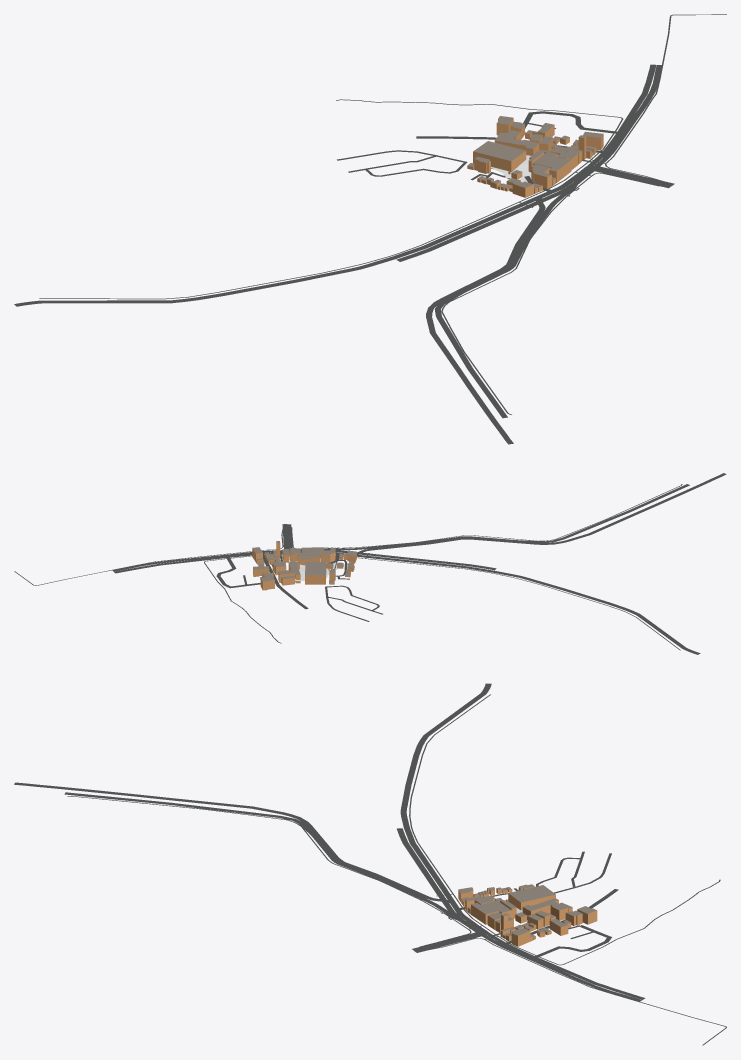
The model's file is sunndaimapkiso.fbx.
3 renders of one model, top to bottom at view 1: azimuth 30°, elevation 25°; view 2: azimuth 150°, elevation 25°; view 3: azimuth 270°, elevation 25°, orthographic. The views are drawn at different scales.
Visible parts, largest first — view 1: map_3.osm_roads_secondary, map_3.osm_roads_primary, map_3.osm_paths_footway, map_3.osm_buildings.057, map_3.osm_roads_service; view 2: map_3.osm_roads_secondary, map_3.osm_roads_primary, map_3.osm_paths_footway, map_3.osm_buildings.057, map_3.osm_roads_service, map_3.osm_buildings.072; view 3: map_3.osm_roads_secondary, map_3.osm_roads_primary, map_3.osm_paths_footway, map_3.osm_buildings.057, map_3.osm_roads_service.
Boxes of the visible parts, x1=… form: map_3.osm_roads_secondary: x1=426, y1=64, x2=661, y2=444; map_3.osm_roads_primary: x1=14, y1=165, x2=674, y2=306; map_3.osm_paths_footway: x1=39, y1=14, x2=726, y2=414; map_3.osm_buildings.057: x1=473, y1=141, x2=526, y2=172; map_3.osm_roads_service: x1=337, y1=122, x2=593, y2=184; map_3.osm_roads_secondary: x1=112, y1=473, x2=726, y2=573; map_3.osm_roads_primary: x1=282, y1=524, x2=700, y2=654; map_3.osm_paths_footway: x1=14, y1=484, x2=682, y2=650; map_3.osm_buildings.057: x1=305, y1=561, x2=326, y2=584; map_3.osm_roads_service: x1=243, y1=553, x2=382, y2=621; map_3.osm_buildings.072: x1=278, y1=561, x2=300, y2=583; map_3.osm_roads_secondary: x1=14, y1=782, x2=645, y2=1001; map_3.osm_roads_primary: x1=397, y1=683, x2=491, y2=952; map_3.osm_paths_footway: x1=67, y1=694, x2=726, y2=1045; map_3.osm_buildings.057: x1=508, y1=885, x2=555, y2=910; map_3.osm_roads_service: x1=491, y1=851, x2=611, y2=938.
Size of the model in its own units: 126119 by 3704 by 104967.
